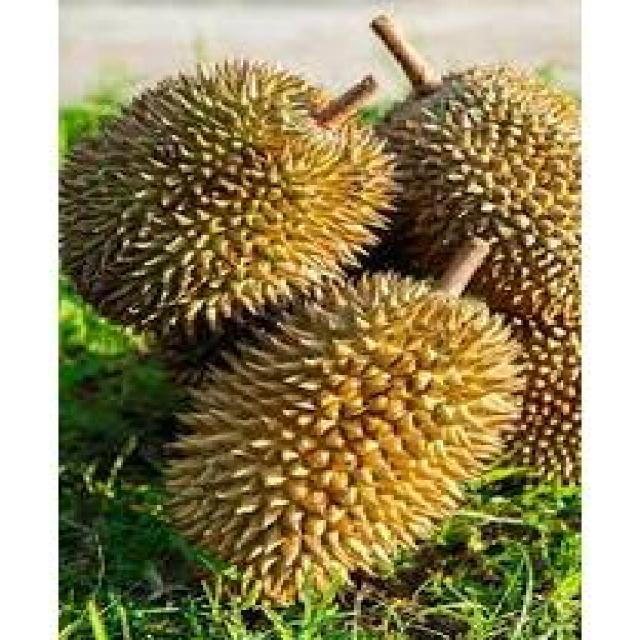fruit: (132, 250, 545, 640), (59, 40, 428, 402)
